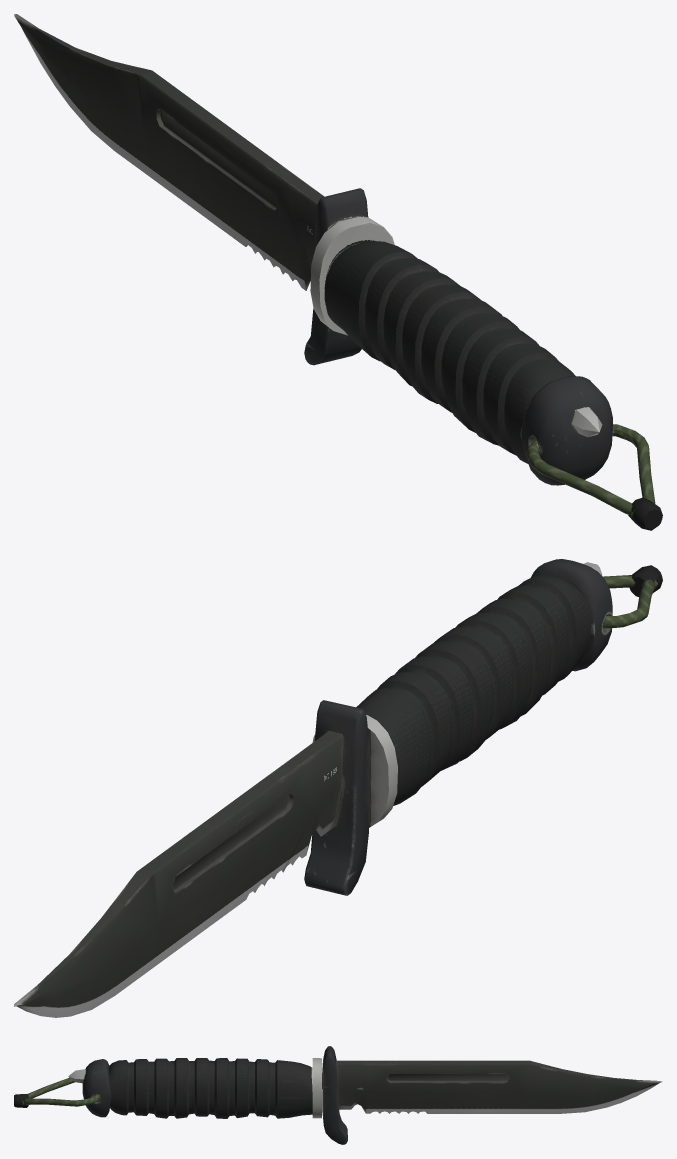
The model's file is faca_combate_leve.glb.
3 views of the same model, one above another, from view 1: azimuth 30°, elevation 25°; view 2: azimuth 150°, elevation 25°; view 3: azimuth 270°, elevation 25° (orthographic). The views are drawn at different scales.
Visible parts, largest first — view 1: faca_combate_leve; view 2: faca_combate_leve; view 3: faca_combate_leve.
Part boxes in pixels (left/top/right/bottom): faca_combate_leve: left=14, top=14, right=662, bottom=530; faca_combate_leve: left=14, top=559, right=662, bottom=1017; faca_combate_leve: left=14, top=1046, right=662, bottom=1144.
Size of the model in its own units: 0.0353 by 0.0538 by 0.354.
1 material, 1 textured.
